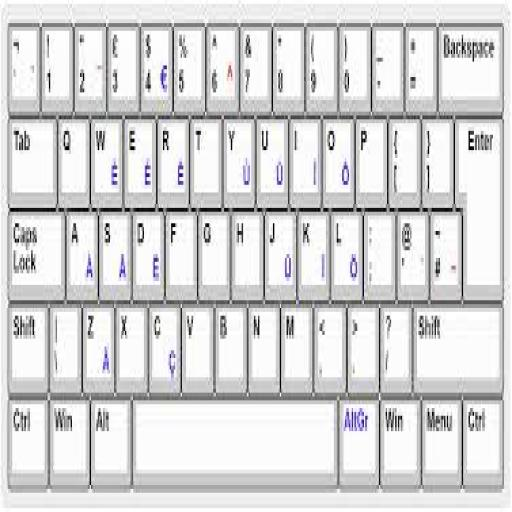keyboard: (0, 0, 511, 500)
